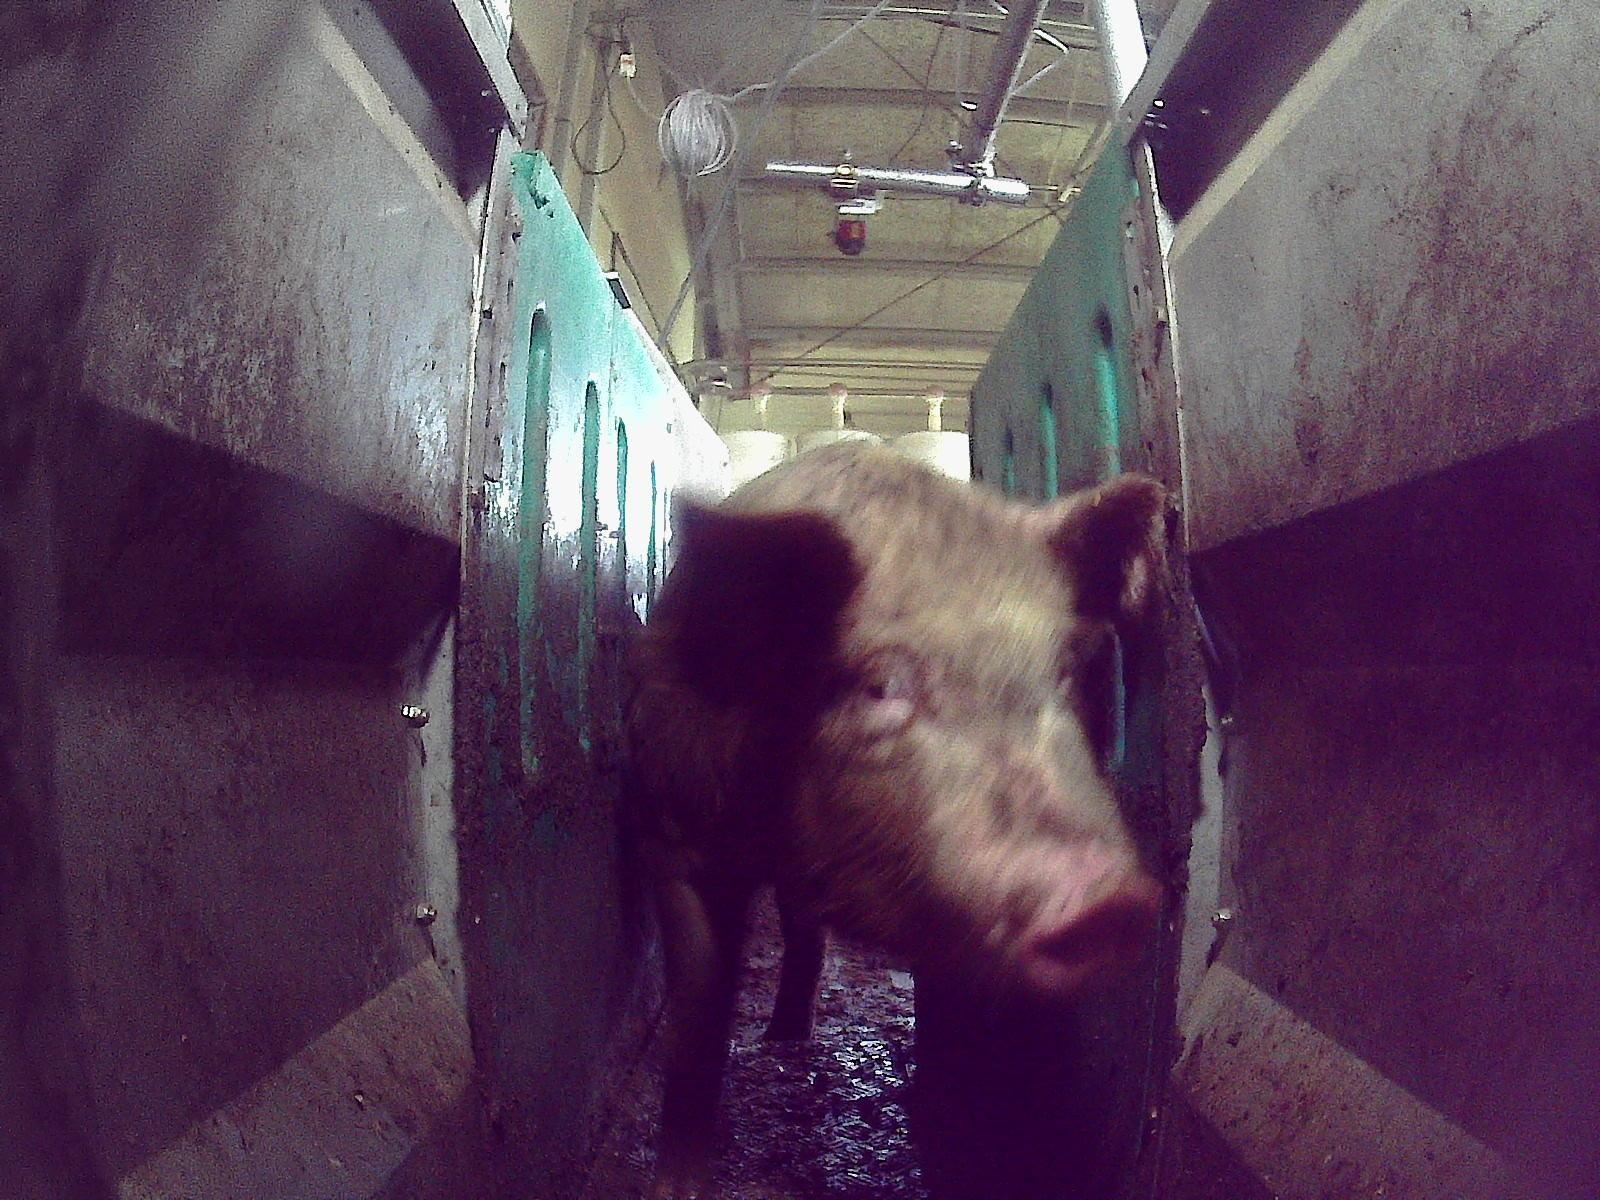Face: (767, 476, 1159, 1004)
